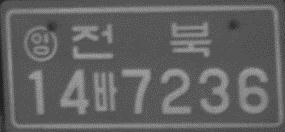1: (22, 69, 54, 115)
2: (159, 67, 192, 115)
3: (197, 66, 230, 114)
4: (59, 68, 89, 115)
6: (237, 66, 269, 115)
7: (120, 67, 152, 115)
바: (92, 71, 117, 112)
영: (22, 25, 58, 64)
전북_D: (69, 21, 212, 60)
